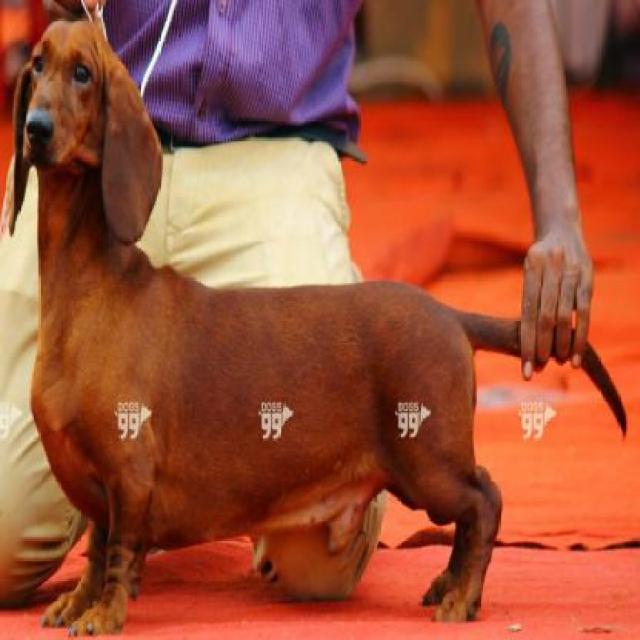Dog: (9, 17, 636, 638)
